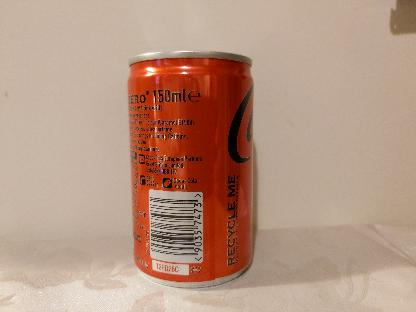Can: (126, 49, 254, 287)
